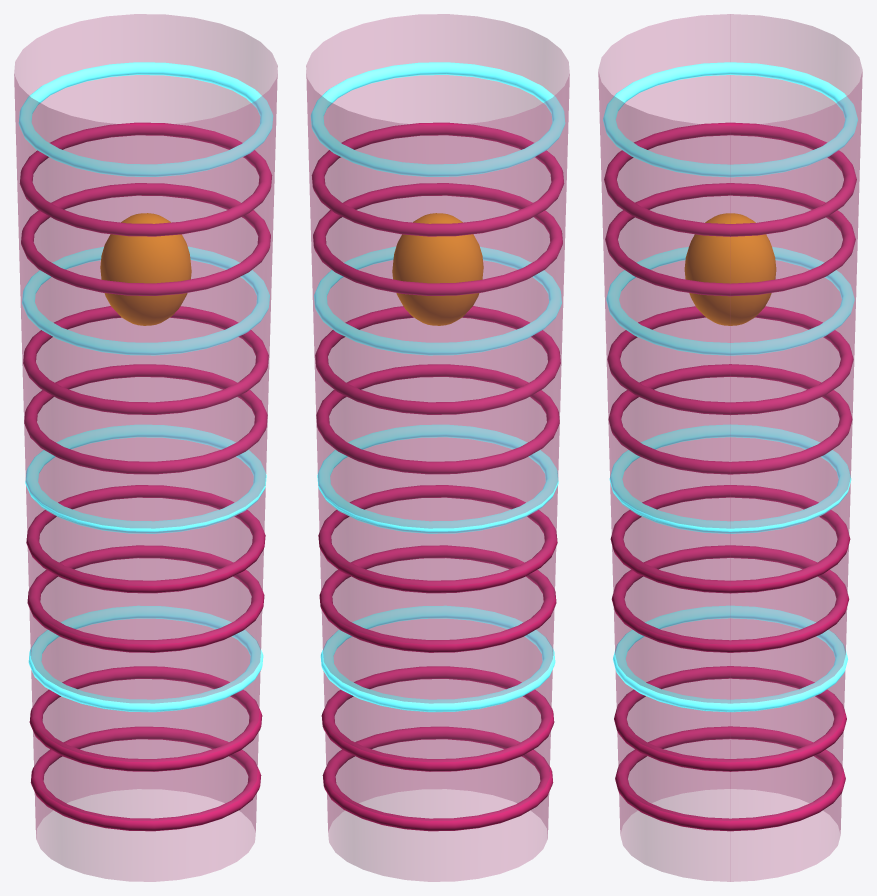
The model's file is esophagus-peristalsis-tunnel.glb.
3 renders of one model, left to right at view 1: azimuth 30°, elevation 25°; view 2: azimuth 150°, elevation 25°; view 3: azimuth 270°, elevation 25°, orthographic.
Visible parts, largest first — view 1: transparent-food-pipe, muscle-ring-0, muscle-ring-1, muscle-ring-2, muscle-ring-5, muscle-ring-6, muscle-ring-7, muscle-ring-8, muscle-ring-9, muscle-ring-10, food-bolus, muscle-ring-11 (+2 smaller); view 2: transparent-food-pipe, muscle-ring-0, muscle-ring-1, muscle-ring-2, muscle-ring-5, muscle-ring-6, muscle-ring-7, muscle-ring-8, muscle-ring-9, muscle-ring-10, food-bolus, muscle-ring-11 (+2 smaller); view 3: transparent-food-pipe, muscle-ring-0, muscle-ring-1, muscle-ring-2, muscle-ring-5, muscle-ring-6, muscle-ring-7, muscle-ring-8, muscle-ring-9, food-bolus, muscle-ring-10, muscle-ring-11 (+2 smaller).
Boxes of the visible parts, left/top/right/bottom form: transparent-food-pipe: left=14, top=14, right=277, bottom=881; muscle-ring-0: left=18, top=62, right=273, bottom=176; muscle-ring-1: left=20, top=122, right=271, bottom=236; muscle-ring-2: left=21, top=183, right=270, bottom=295; muscle-ring-5: left=24, top=364, right=267, bottom=474; muscle-ring-6: left=25, top=424, right=266, bottom=533; muscle-ring-7: left=26, top=485, right=265, bottom=593; muscle-ring-8: left=27, top=545, right=264, bottom=652; muscle-ring-9: left=28, top=605, right=263, bottom=712; muscle-ring-10: left=29, top=666, right=262, bottom=771; food-bolus: left=100, top=213, right=191, bottom=325; muscle-ring-11: left=30, top=726, right=261, bottom=831; transparent-food-pipe: left=306, top=14, right=569, bottom=881; muscle-ring-0: left=310, top=62, right=565, bottom=176; muscle-ring-1: left=312, top=122, right=563, bottom=236; muscle-ring-2: left=313, top=183, right=562, bottom=295; muscle-ring-5: left=316, top=364, right=559, bottom=474; muscle-ring-6: left=317, top=424, right=558, bottom=533; muscle-ring-7: left=318, top=485, right=557, bottom=593; muscle-ring-8: left=319, top=545, right=556, bottom=652; muscle-ring-9: left=320, top=605, right=555, bottom=712; muscle-ring-10: left=321, top=666, right=554, bottom=771; food-bolus: left=392, top=213, right=483, bottom=325; muscle-ring-11: left=322, top=726, right=553, bottom=831; transparent-food-pipe: left=598, top=14, right=862, bottom=881; muscle-ring-0: left=603, top=62, right=857, bottom=177; muscle-ring-1: left=604, top=122, right=856, bottom=236; muscle-ring-2: left=605, top=183, right=855, bottom=296; muscle-ring-5: left=608, top=364, right=852, bottom=474; muscle-ring-6: left=609, top=424, right=851, bottom=533; muscle-ring-7: left=610, top=485, right=850, bottom=593; muscle-ring-8: left=611, top=545, right=849, bottom=652; muscle-ring-9: left=613, top=605, right=847, bottom=712; food-bolus: left=684, top=213, right=776, bottom=325; muscle-ring-10: left=614, top=666, right=846, bottom=771; muscle-ring-11: left=615, top=726, right=845, bottom=831.
Bounding box in the file's own units: 1.44 × 4.6 × 1.44.
